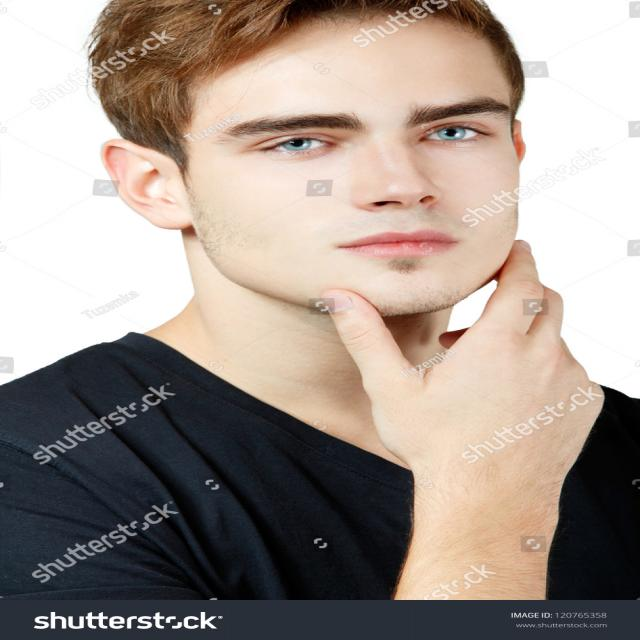earlobe: (100, 139, 192, 230)
